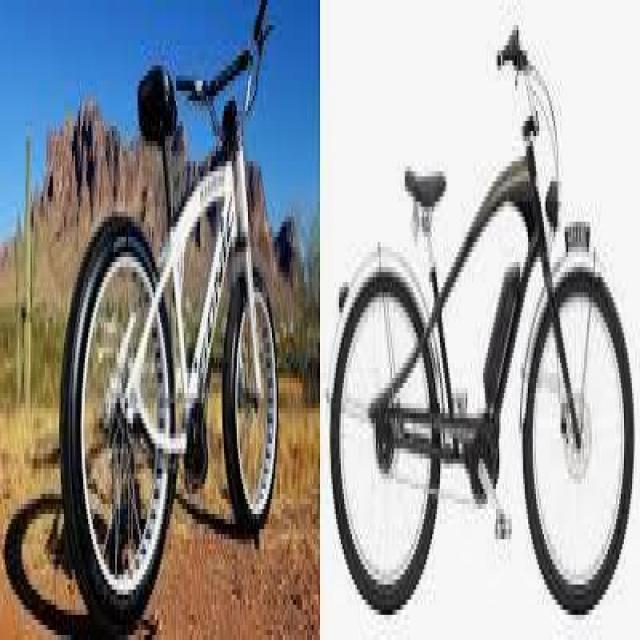bicycle: (331, 16, 632, 611), (64, 1, 288, 631)
